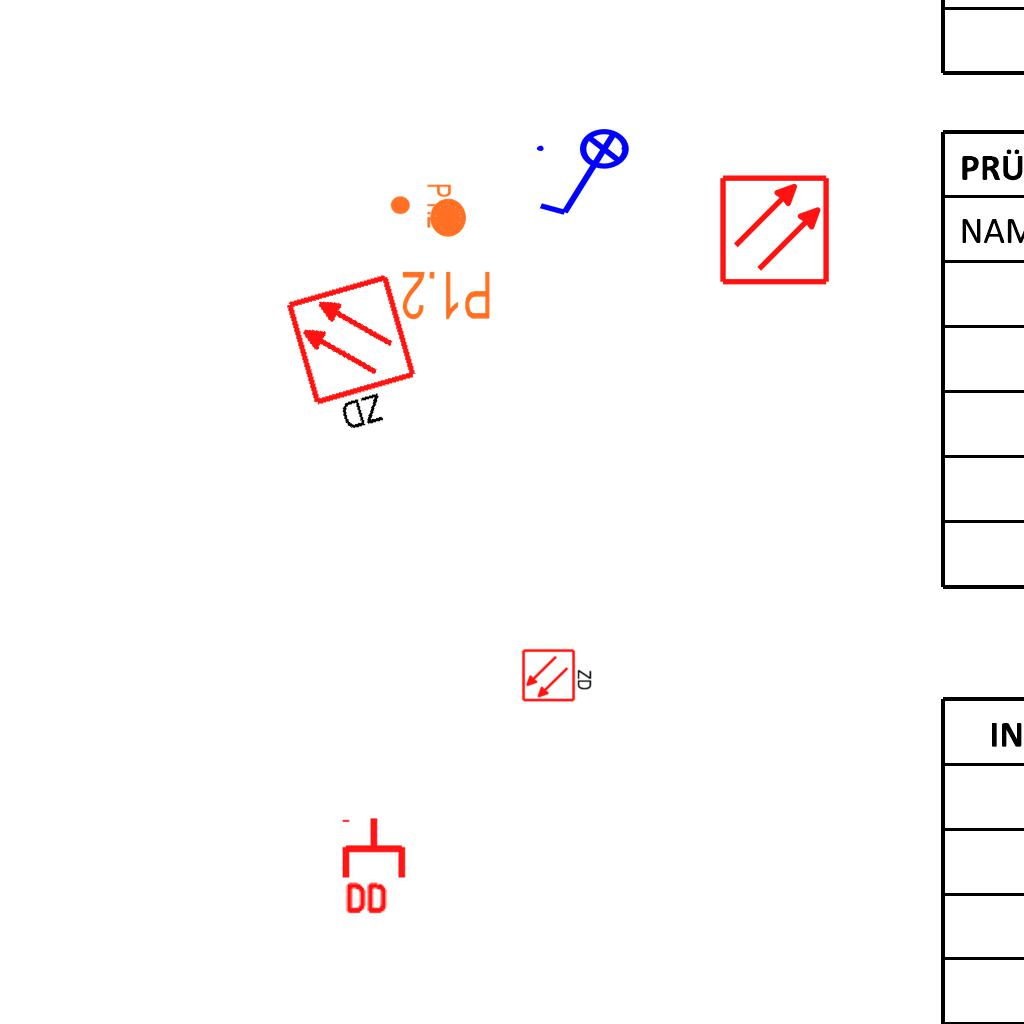Ausschalter_beleuchtet: (531, 127, 643, 223)
Datenanschluss_zweifach: (341, 815, 410, 918)
Downlight_LED_Einbauleuchten_Flur: (400, 195, 493, 323), (389, 183, 453, 229)
RMO_Rauchmelder_optischer: (718, 173, 831, 286)
ZD_Melder_in_Zwischendecke_mit_Revisionsoeffnung_mind_40_x_40_cm: (282, 270, 434, 445), (521, 646, 595, 703)
